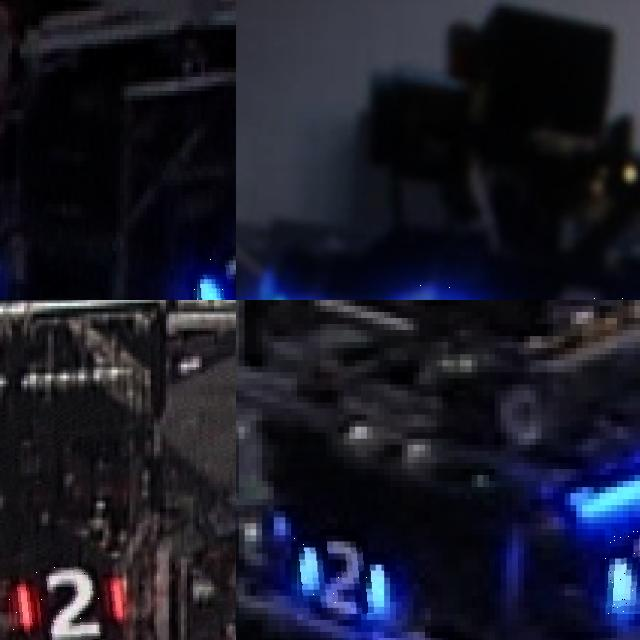B2: (291, 535, 384, 614), (605, 529, 640, 613), (193, 250, 236, 300)
R2: (6, 565, 123, 640)
